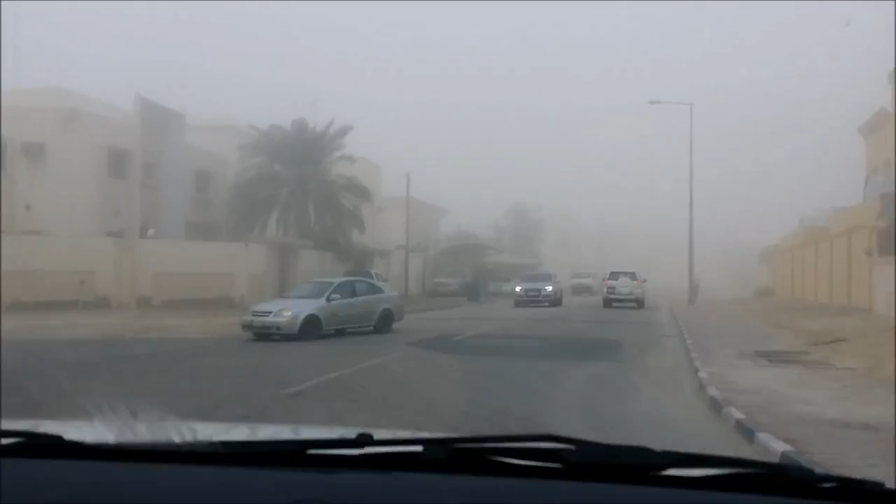car: (238, 277, 406, 340), (600, 269, 650, 311), (511, 270, 565, 308), (430, 266, 469, 297), (568, 268, 601, 295), (485, 273, 520, 296)
